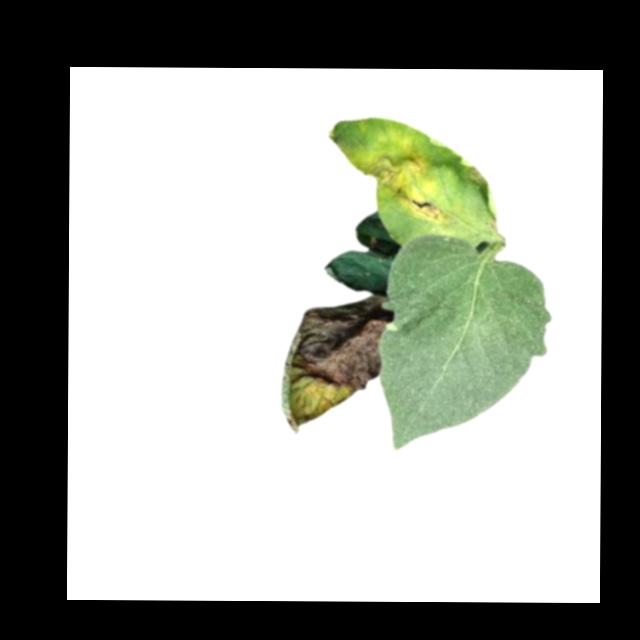Late_blight: (280, 293, 394, 435), (354, 146, 449, 224), (457, 156, 489, 187)
healthy: (378, 235, 553, 452)
